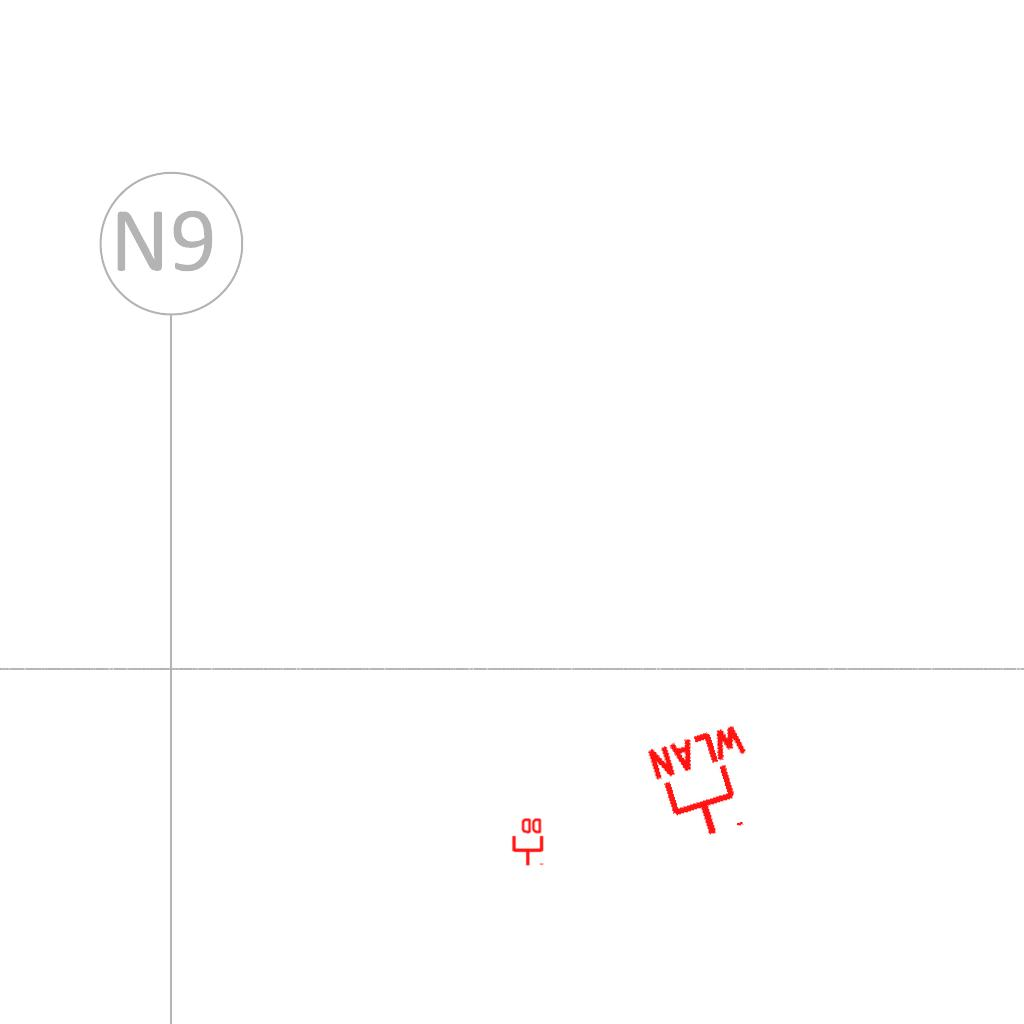Datenanschluss_zweifach: (510, 816, 544, 867)
WLAN: (642, 719, 773, 851)
